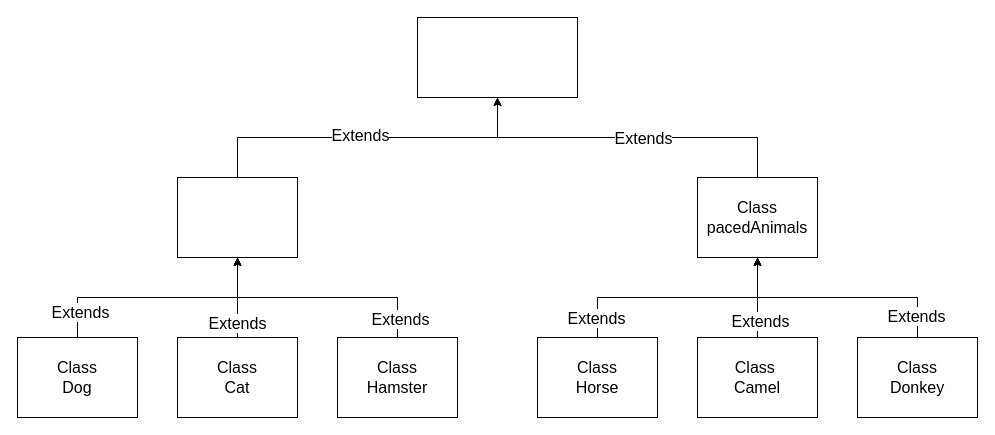
The diagram is 995 pixels wide and 435 high, and some of its shapes have lost their labels. Here are the shapes that lost their labels. From the top down, the centre of each, then its label:
At (x=497, y=57): "Class Animals".
At (x=237, y=217): "Class homeAnimals".
